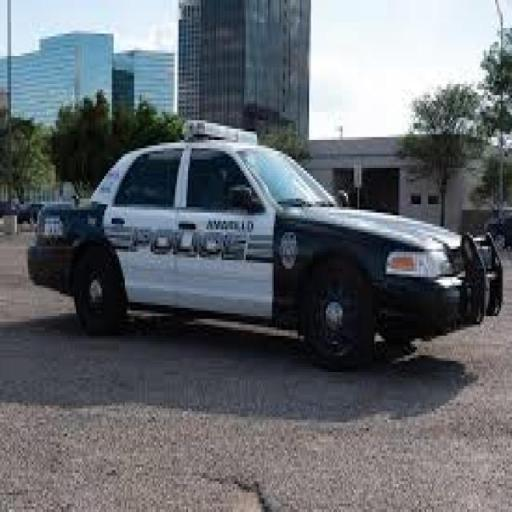Ambulance: (56, 122, 484, 356)
